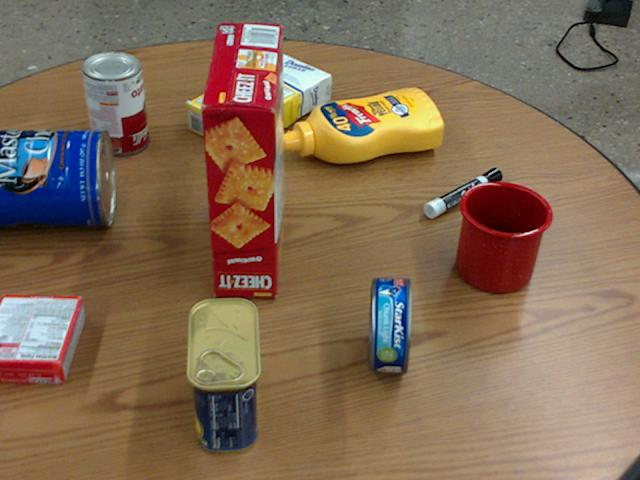cracker_box: (198, 23, 283, 297)
gelatin_box: (0, 293, 85, 382)
large_marker: (424, 168, 502, 217)
master_chef_can: (0, 128, 113, 227)
mug: (455, 180, 553, 292)
mustard_bottle: (280, 89, 444, 162)
potted_meat_can: (188, 298, 262, 453)
sugar_box: (187, 51, 332, 154)
tomato_soup_can: (81, 51, 147, 155)
tuna_fish_can: (369, 276, 409, 373)
